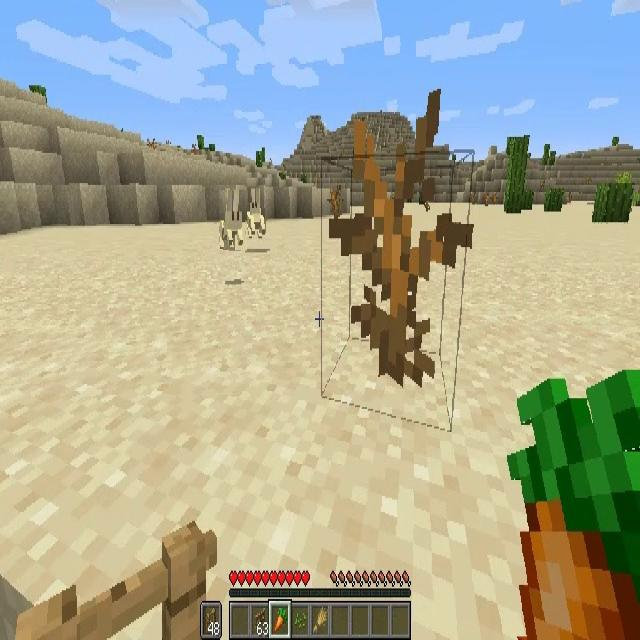rabbit: (219, 190, 245, 250), (244, 190, 265, 241)
